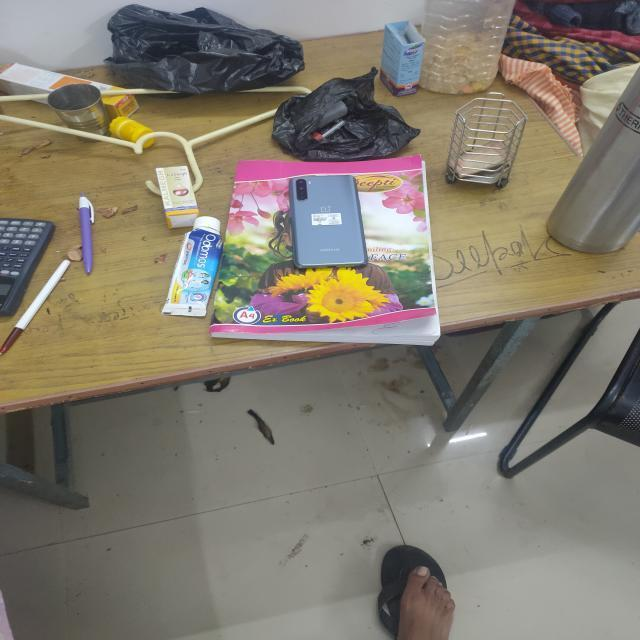Phone: (284, 174, 374, 286)
